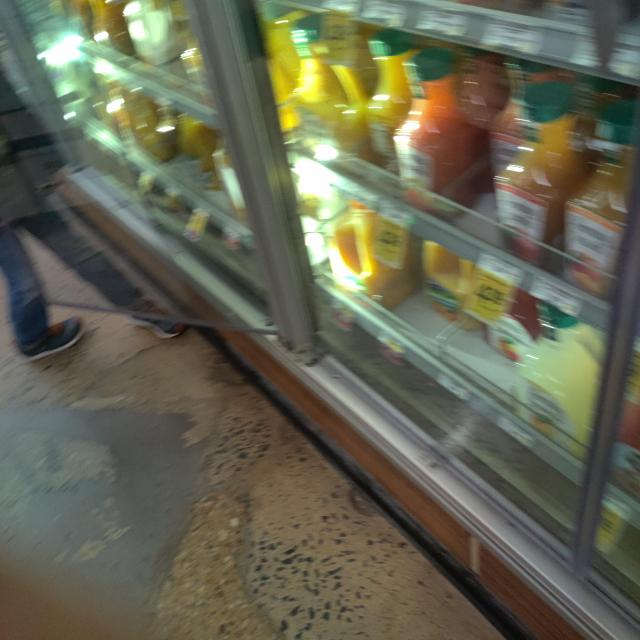Juice: (495, 84, 583, 270), (566, 101, 640, 302), (516, 307, 607, 464), (396, 53, 478, 215), (293, 13, 373, 166), (334, 203, 429, 307), (422, 237, 488, 331)
